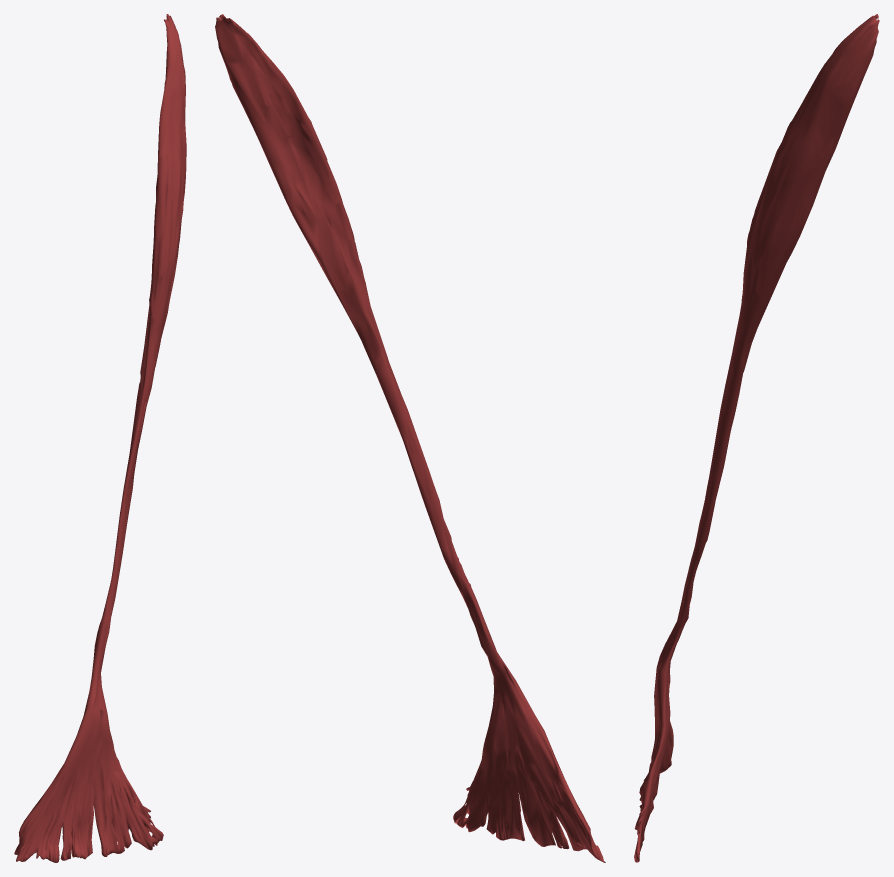
File: palmaris-longus-muscle-r.glb
The picture shows the model from 3 angles, left to right: view 1: azimuth 30°, elevation 25°; view 2: azimuth 150°, elevation 25°; view 3: azimuth 270°, elevation 25°; orthographic projection. The views are drawn at different scales.
Visible parts, largest first — view 1: Palmaris longus muscle.r; view 2: Palmaris longus muscle.r; view 3: Palmaris longus muscle.r.
Part boxes in pixels (x1,y1,x2,y2): Palmaris longus muscle.r: (14, 14, 186, 862); Palmaris longus muscle.r: (215, 14, 605, 862); Palmaris longus muscle.r: (634, 14, 879, 862).
Bounding box in the file's own units: 0.1152 × 0.3313 × 0.0806.
